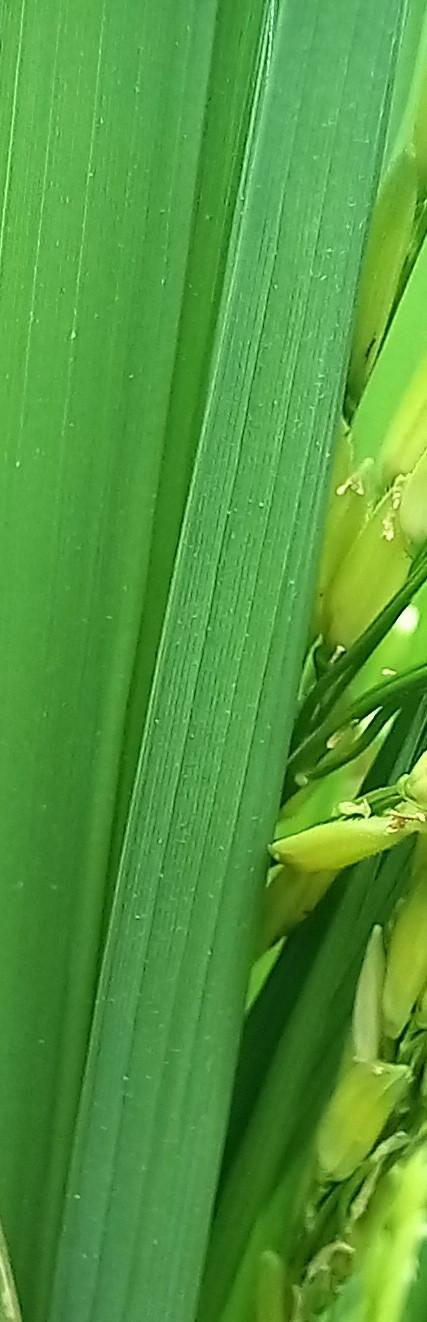Healthy: (53, 0, 401, 1321)
